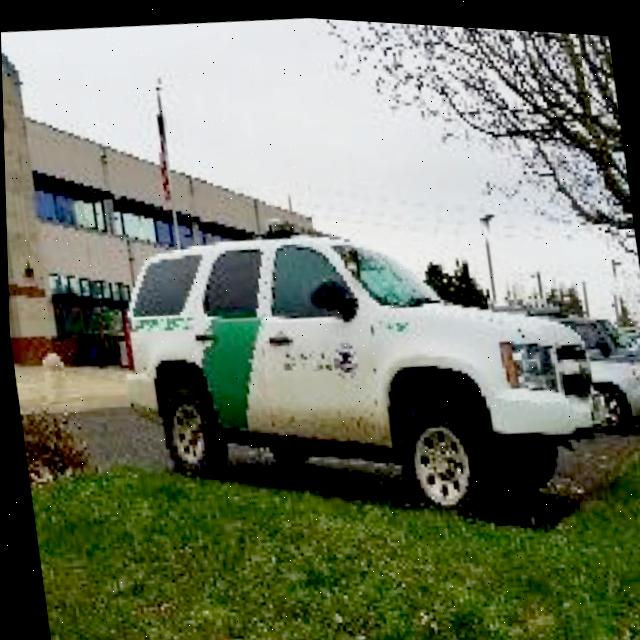emergency: (98, 173, 620, 549)
